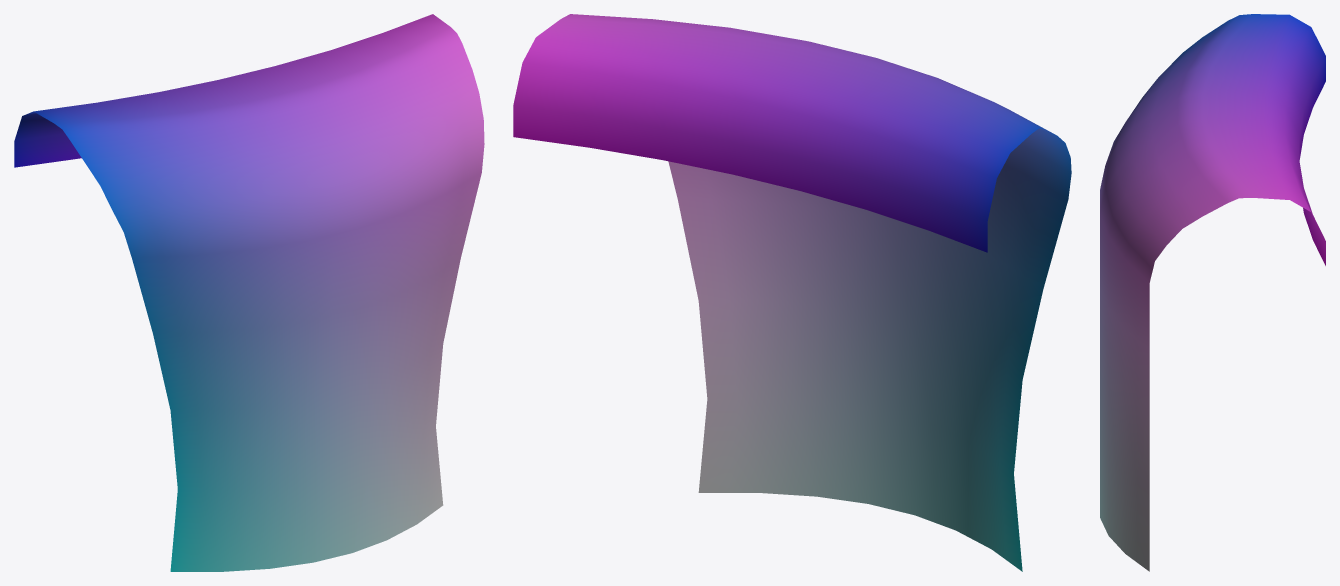
3 renders of one model, left to right at view 1: azimuth 30°, elevation 25°; view 2: azimuth 150°, elevation 25°; view 3: azimuth 270°, elevation 25°, orthographic. The views are drawn at different scales.
Parts seen in each view (by area): view 1: SM_VFX_Beetle_LowPoly_LOD0; view 2: SM_VFX_Beetle_LowPoly_LOD0; view 3: SM_VFX_Beetle_LowPoly_LOD0.
Boxes of the visible parts, x1,y1,x2,y2 form: SM_VFX_Beetle_LowPoly_LOD0: (14,14,484,571); SM_VFX_Beetle_LowPoly_LOD0: (513,14,1071,571); SM_VFX_Beetle_LowPoly_LOD0: (1100,14,1325,571).
Size of the model in its own units: 1.98 by 2.01 by 1.02.
